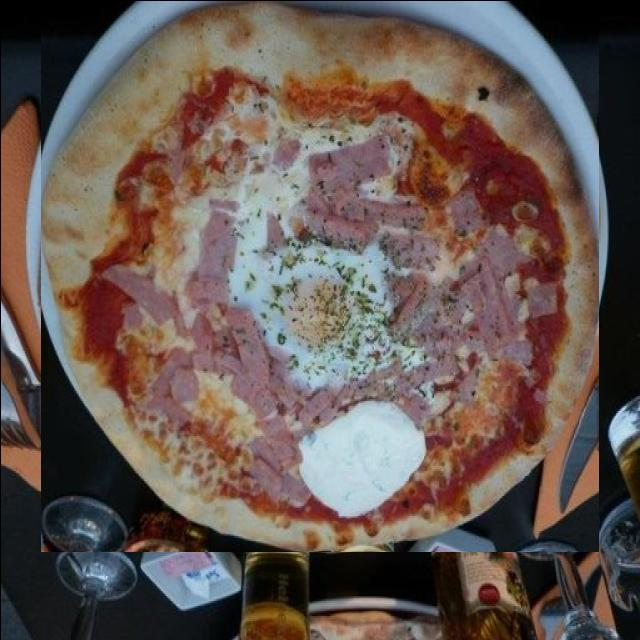pizza: (40, 0, 598, 551)
